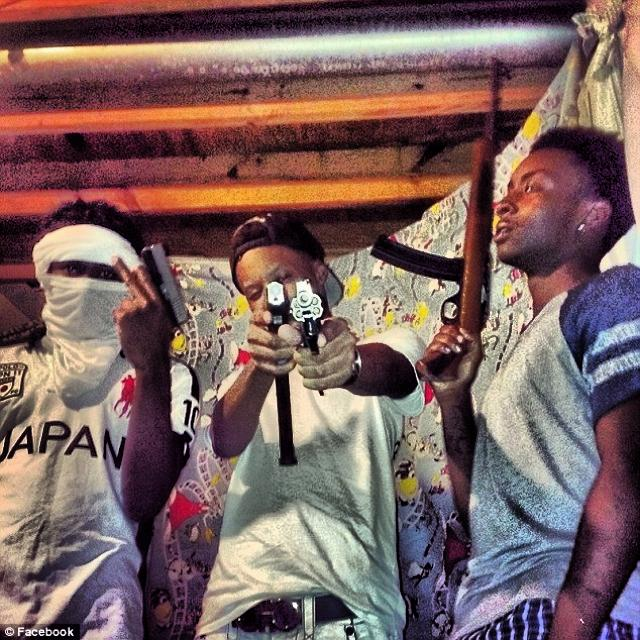pistol: (118, 240, 184, 358), (290, 276, 330, 398), (260, 278, 294, 387)
